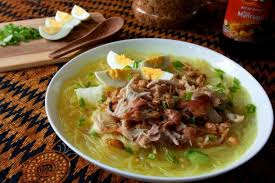soto: (53, 38, 267, 180)
